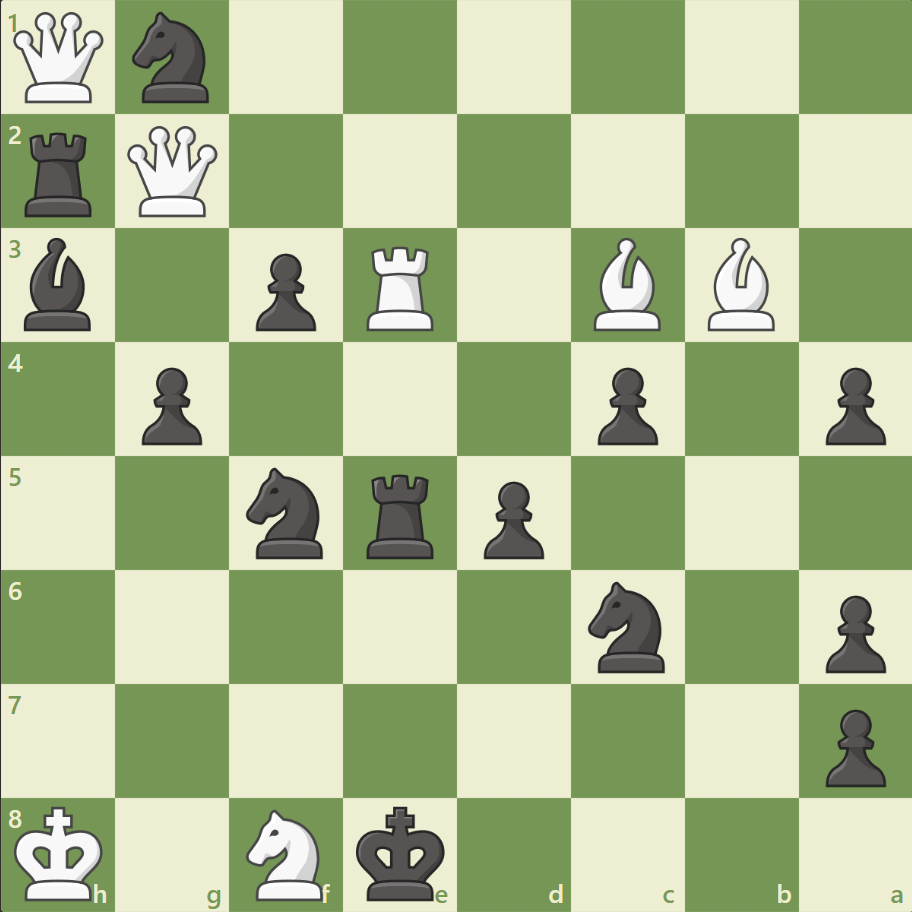B: (698, 233, 782, 336), (585, 233, 669, 336)
K: (11, 798, 111, 906)
N: (238, 802, 335, 904)
Q: (124, 122, 223, 222), (10, 9, 109, 108)
R: (360, 239, 442, 336)
b: (17, 233, 101, 336)
k: (351, 798, 451, 906)
n: (124, 7, 222, 110), (238, 461, 335, 564), (579, 575, 676, 677)
p: (474, 473, 549, 564), (133, 359, 208, 450), (247, 246, 322, 337), (815, 700, 889, 791), (815, 586, 889, 677), (815, 359, 889, 450), (588, 359, 662, 450)
r: (19, 125, 102, 222), (360, 466, 442, 563)
